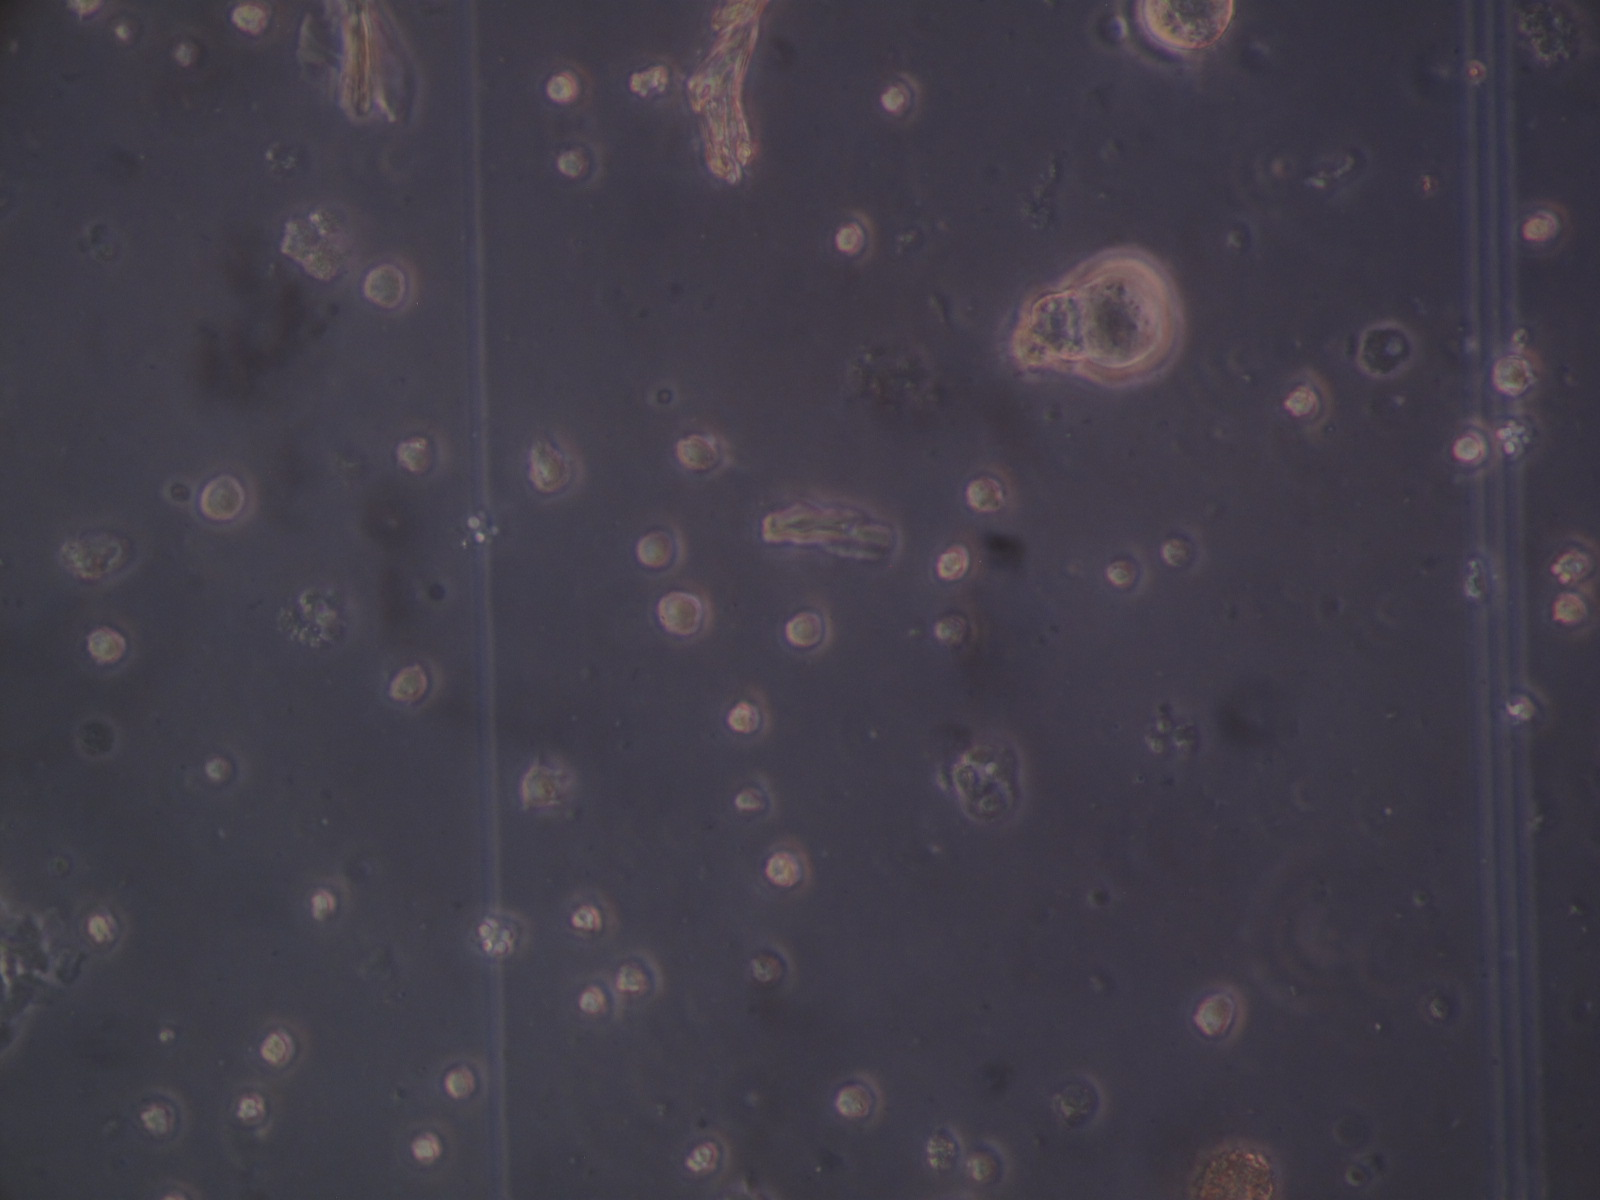hemo: (191, 464, 258, 533), (527, 429, 588, 500), (355, 251, 422, 316), (379, 650, 441, 712), (77, 613, 139, 673), (393, 417, 454, 478), (1194, 981, 1249, 1047), (1284, 366, 1335, 432), (132, 1084, 189, 1145), (1053, 1070, 1107, 1131), (1453, 416, 1500, 483), (258, 1013, 309, 1075), (1500, 676, 1553, 734), (763, 836, 813, 896), (834, 1071, 884, 1128), (721, 684, 770, 742), (397, 1122, 456, 1170), (656, 586, 712, 637), (614, 944, 663, 1000), (632, 524, 687, 574), (562, 887, 610, 943), (81, 896, 130, 949), (1551, 534, 1600, 586), (1104, 542, 1151, 595), (968, 463, 1015, 516), (1162, 524, 1208, 579), (675, 435, 729, 482), (520, 753, 564, 809), (437, 1054, 488, 1103), (546, 63, 593, 113), (787, 605, 834, 657), (574, 971, 622, 1020), (232, 1084, 278, 1134), (834, 208, 877, 262), (734, 770, 777, 822), (751, 940, 792, 993), (964, 1138, 1012, 1184), (558, 137, 602, 187), (934, 608, 984, 650), (1492, 353, 1538, 398), (307, 875, 353, 921), (881, 72, 922, 122), (627, 55, 674, 100), (1548, 587, 1600, 626), (1511, 209, 1558, 250), (202, 756, 246, 797), (226, 1, 273, 37), (929, 1124, 964, 1170), (58, 1, 113, 26), (936, 539, 968, 581)
